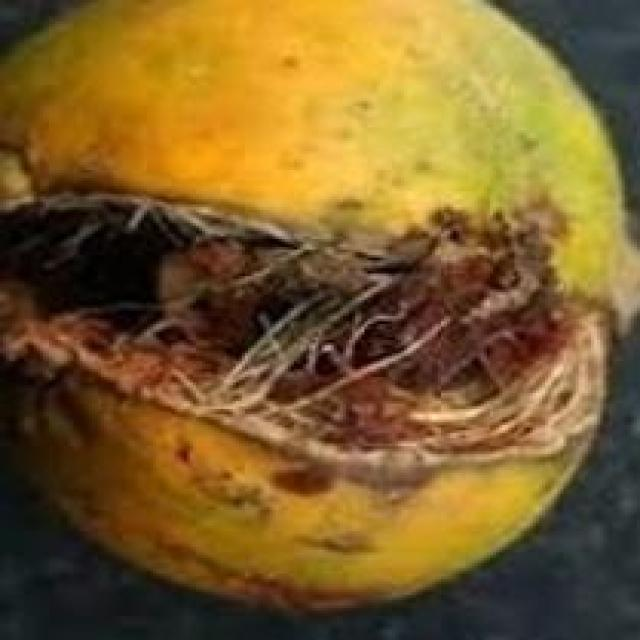damaged: (0, 0, 637, 637)
